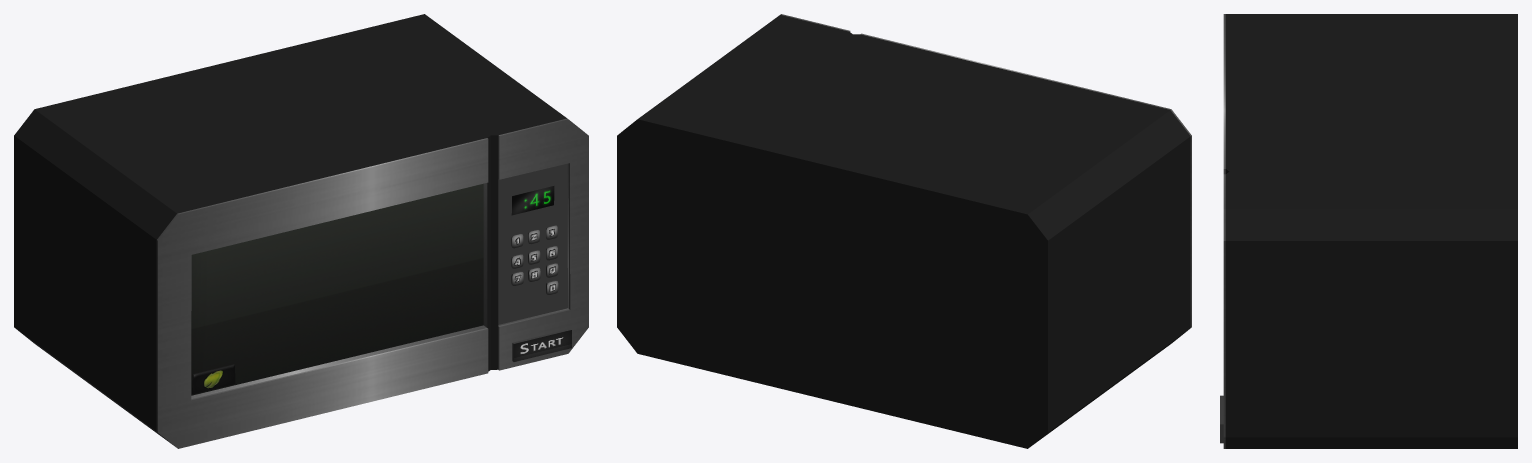
The model's file is Microwave.FBX.
3 views of the same model, side by side, from view 1: azimuth 30°, elevation 25°; view 2: azimuth 150°, elevation 25°; view 3: azimuth 270°, elevation 25° (orthographic). The views are drawn at different scales.
Visible parts, largest first — view 1: Microwave; view 2: Microwave; view 3: Microwave.
Part boxes in pixels (box(x1,y1,x2,y2)): Microwave: box(14, 14, 588, 448); Microwave: box(617, 14, 1191, 448); Microwave: box(1220, 14, 1517, 448).
Bounding box in the file's own units: 125 × 65 × 73.1.
